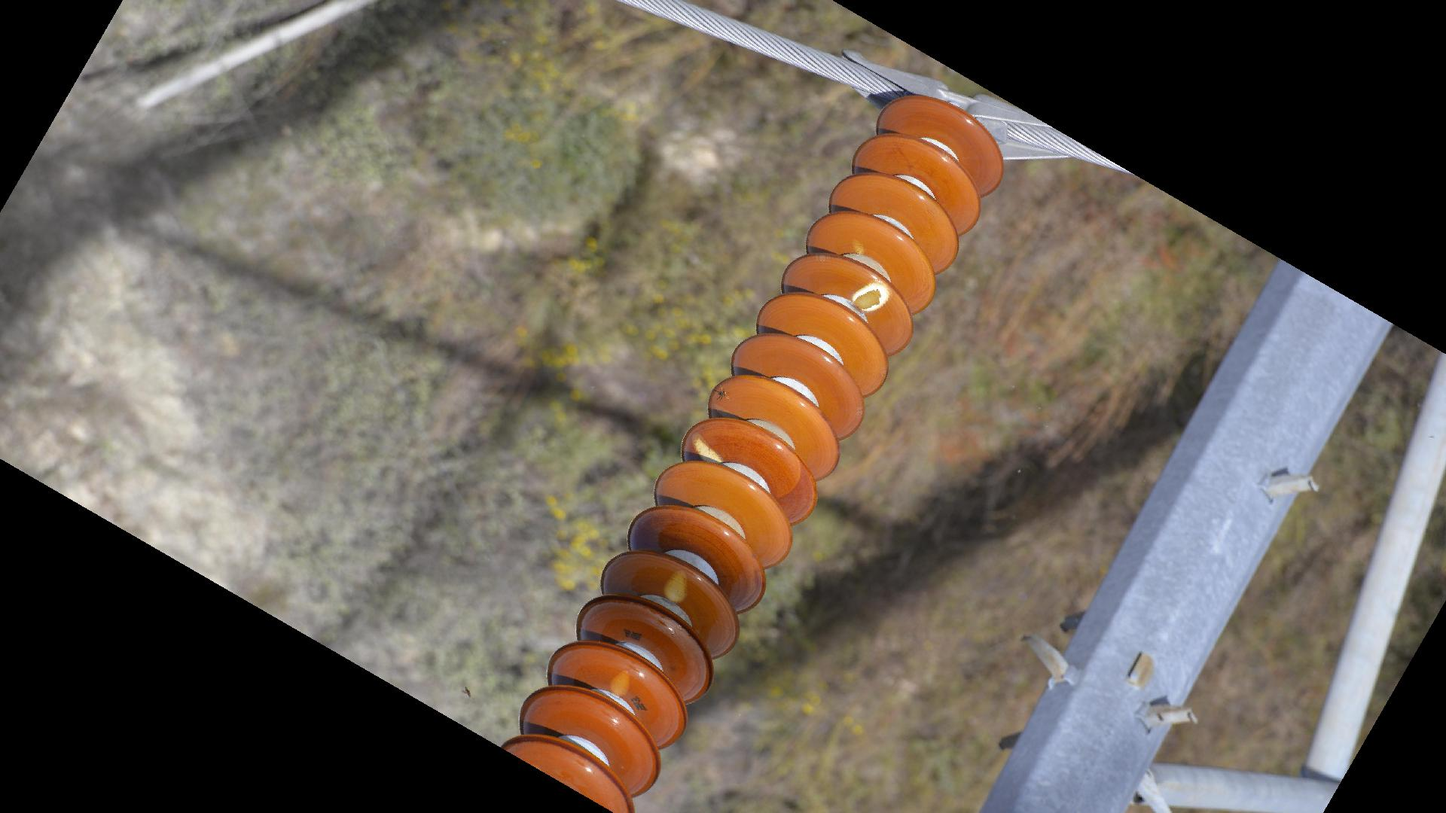insulator: (492, 88, 1013, 813)
insulator_flashover: (850, 281, 891, 314), (689, 429, 724, 467), (662, 568, 690, 604), (606, 668, 633, 697)
